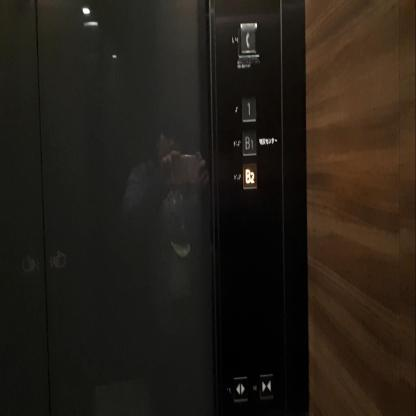1: (240, 96, 257, 123)
B1: (241, 129, 257, 156)
B2: (242, 163, 258, 190)
call: (238, 22, 260, 60)
close: (258, 373, 274, 400)
open: (232, 376, 248, 402)
